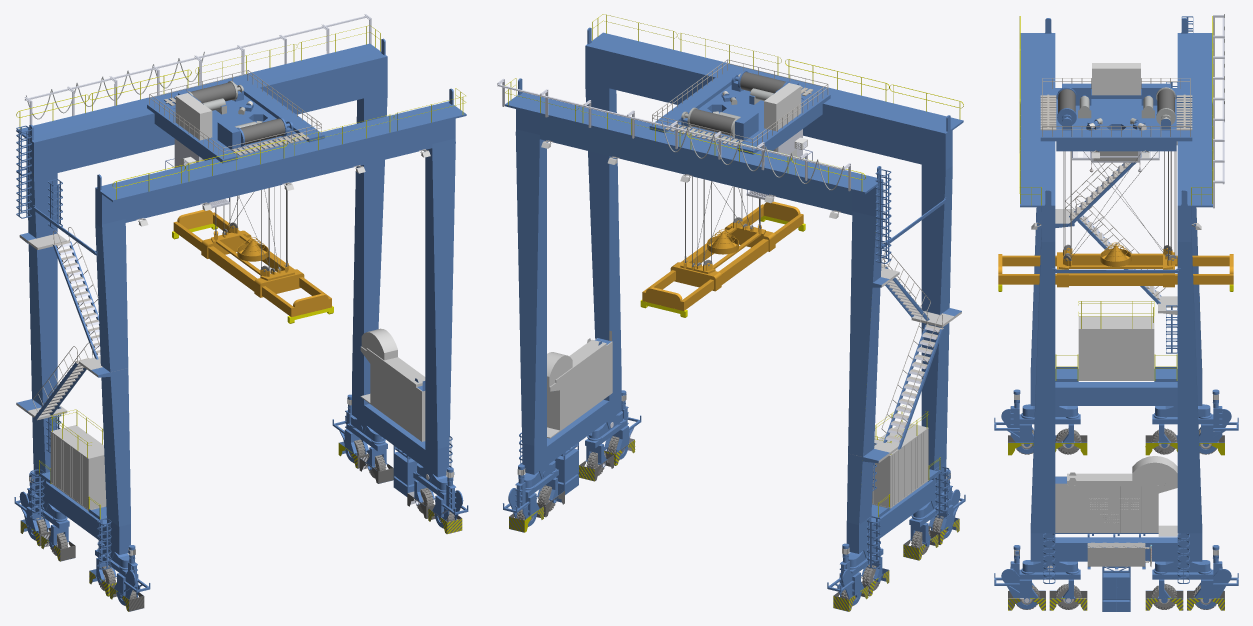
File: crane.glb
The picture shows the model from 3 angles, left to right: view 1: azimuth 30°, elevation 25°; view 2: azimuth 150°, elevation 25°; view 3: azimuth 270°, elevation 25°; orthographic projection.
Visible parts, largest first — view 1: Body_479_Mtl1_0, Body_486_Mtl2_0, Assembly~1305_Mtl36_0, Assembly~1326_Mtl43_0, Body_477_Mtl5_0, Body_1_28_Mtl35_0, Assembly~175_texture6_0, Assembly~1299_texture3b_0, Body_4_2_Mtl38_0, Assembly~1301_Mtl40_0, Assembly~1901_texture83_0, Assembly~1273_Mtl33_0 (+8 smaller); view 2: Body_479_Mtl1_0, Body_486_Mtl2_0, Assembly~1305_Mtl36_0, Assembly~1326_Mtl43_0, Body_477_Mtl5_0, Assembly~175_texture6_0, Assembly~1299_texture3b_0, Assembly~1301_Mtl40_0, Assembly~1901_texture83_0, Body_4_2_Mtl38_0, Assembly~1273_Mtl33_0, Body_1_28_Mtl35_0 (+7 smaller); view 3: Body_479_Mtl1_0, Body_486_Mtl2_0, Assembly~1305_Mtl36_0, Assembly~1326_Mtl43_0, Assembly~1901_texture83_0, Assembly~1301_Mtl40_0, Body_477_Mtl5_0, Body_325_Mtl4_0, Assembly~1288_Mtl37_0, Body_1_43_Mtl59_0, Body_4_2_Mtl38_0, Assembly~175_texture6_0 (+14 smaller).
Boxes of the visible parts, bbox=[...] form: Body_479_Mtl1_0: bbox=[14, 38, 468, 611]; Body_486_Mtl2_0: bbox=[16, 233, 453, 555]; Assembly~1305_Mtl36_0: bbox=[147, 79, 324, 163]; Assembly~1326_Mtl43_0: bbox=[173, 212, 331, 317]; Body_477_Mtl5_0: bbox=[16, 25, 466, 532]; Body_1_28_Mtl35_0: bbox=[16, 125, 62, 452]; Assembly~175_texture6_0: bbox=[20, 453, 462, 611]; Assembly~1299_texture3b_0: bbox=[190, 82, 285, 144]; Body_4_2_Mtl38_0: bbox=[149, 70, 321, 158]; Assembly~1301_Mtl40_0: bbox=[175, 93, 252, 140]; Assembly~1901_texture83_0: bbox=[32, 439, 454, 606]; Assembly~1273_Mtl33_0: bbox=[33, 241, 99, 419]; Body_479_Mtl1_0: bbox=[503, 27, 965, 611]; Body_486_Mtl2_0: bbox=[517, 267, 961, 554]; Assembly~1305_Mtl36_0: bbox=[649, 69, 830, 154]; Assembly~1326_Mtl43_0: bbox=[642, 202, 803, 310]; Body_477_Mtl5_0: bbox=[505, 14, 963, 611]; Assembly~175_texture6_0: bbox=[509, 440, 959, 611]; Assembly~1299_texture3b_0: bbox=[689, 72, 785, 135]; Assembly~1301_Mtl40_0: bbox=[722, 83, 801, 131]; Assembly~1901_texture83_0: bbox=[516, 436, 947, 606]; Body_4_2_Mtl38_0: bbox=[652, 59, 828, 150]; Assembly~1273_Mtl33_0: bbox=[883, 267, 943, 449]; Body_1_28_Mtl35_0: bbox=[872, 169, 891, 491]; Body_479_Mtl1_0: bbox=[994, 18, 1238, 611]; Body_486_Mtl2_0: bbox=[1014, 141, 1218, 555]; Assembly~1305_Mtl36_0: bbox=[1040, 83, 1192, 151]; Assembly~1326_Mtl43_0: bbox=[998, 252, 1233, 287]; Assembly~1901_texture83_0: bbox=[1014, 428, 1218, 609]; Assembly~1301_Mtl40_0: bbox=[1089, 63, 1146, 130]; Body_477_Mtl5_0: bbox=[1019, 16, 1213, 380]; Body_325_Mtl4_0: bbox=[1087, 542, 1145, 566]; Assembly~1288_Mtl37_0: bbox=[1040, 94, 1192, 130]; Body_1_43_Mtl59_0: bbox=[1063, 151, 1176, 260]; Body_4_2_Mtl38_0: bbox=[1042, 78, 1190, 136]; Assembly~175_texture6_0: bbox=[1008, 435, 1224, 610].
Size of the model in its own units: 21532 by 24852 by 12470.
